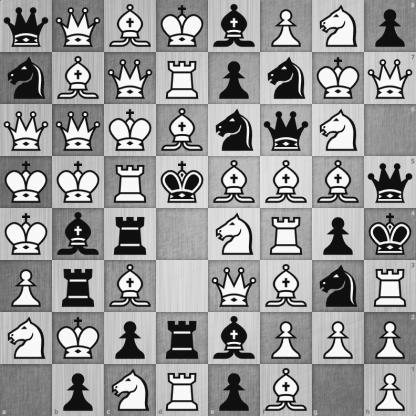B: (260, 364, 312, 416), (53, 53, 104, 104), (105, 1, 156, 52), (105, 261, 156, 312), (157, 105, 208, 156), (209, 157, 260, 208), (261, 157, 312, 208), (261, 261, 312, 312), (313, 157, 364, 208)
K: (1, 157, 52, 208), (1, 209, 52, 260), (53, 157, 104, 208), (53, 313, 104, 364), (105, 105, 156, 156), (157, 1, 208, 52), (313, 53, 364, 104)
N: (104, 364, 156, 416), (1, 313, 52, 364), (209, 209, 260, 260), (313, 1, 364, 52), (313, 105, 364, 156)
P: (364, 312, 416, 364), (364, 364, 416, 416), (1, 261, 52, 312), (261, 1, 312, 52), (261, 313, 312, 364), (313, 313, 364, 364)
Q: (364, 52, 416, 104), (1, 105, 52, 156), (53, 1, 104, 52), (53, 105, 104, 156), (105, 53, 156, 104), (209, 261, 260, 312)
R: (156, 364, 209, 416), (364, 260, 416, 312), (105, 157, 156, 208), (157, 53, 208, 104), (261, 209, 312, 260)
b: (53, 209, 104, 260), (209, 1, 260, 52), (209, 313, 260, 364)
board: (0, 0, 415, 415)
k: (364, 209, 416, 260), (157, 157, 208, 208)
n: (1, 53, 52, 104), (209, 105, 260, 156), (261, 53, 312, 104), (313, 261, 364, 312)
p: (52, 364, 104, 416), (364, 0, 416, 52), (209, 364, 260, 416), (105, 313, 156, 364), (209, 53, 260, 104), (313, 209, 364, 260)
q: (364, 156, 416, 209), (1, 1, 52, 52), (261, 105, 312, 156)
r: (53, 261, 104, 312), (105, 209, 156, 260), (157, 313, 208, 364)
